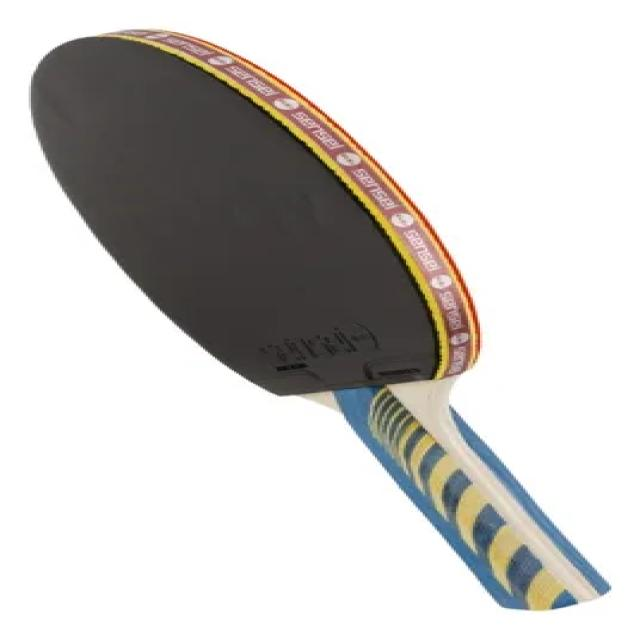TT Racket: (0, 0, 606, 504)
